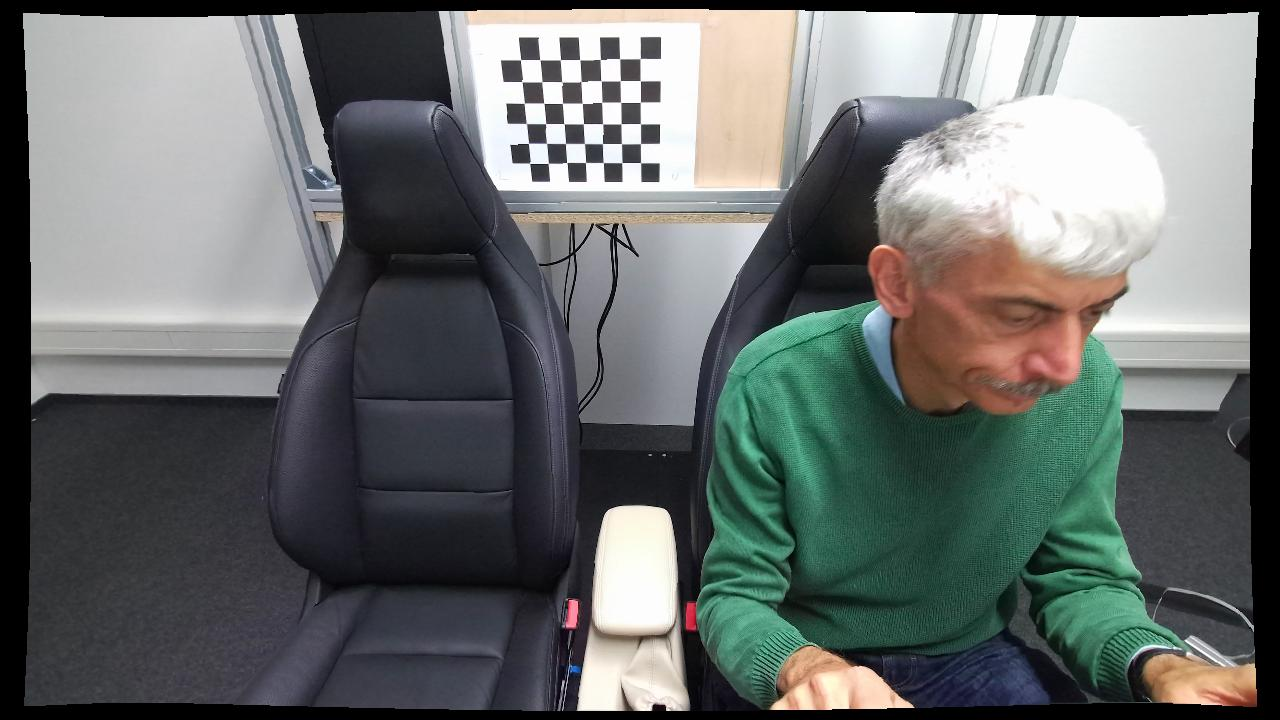SafeDriving: (689, 87, 1228, 715)
